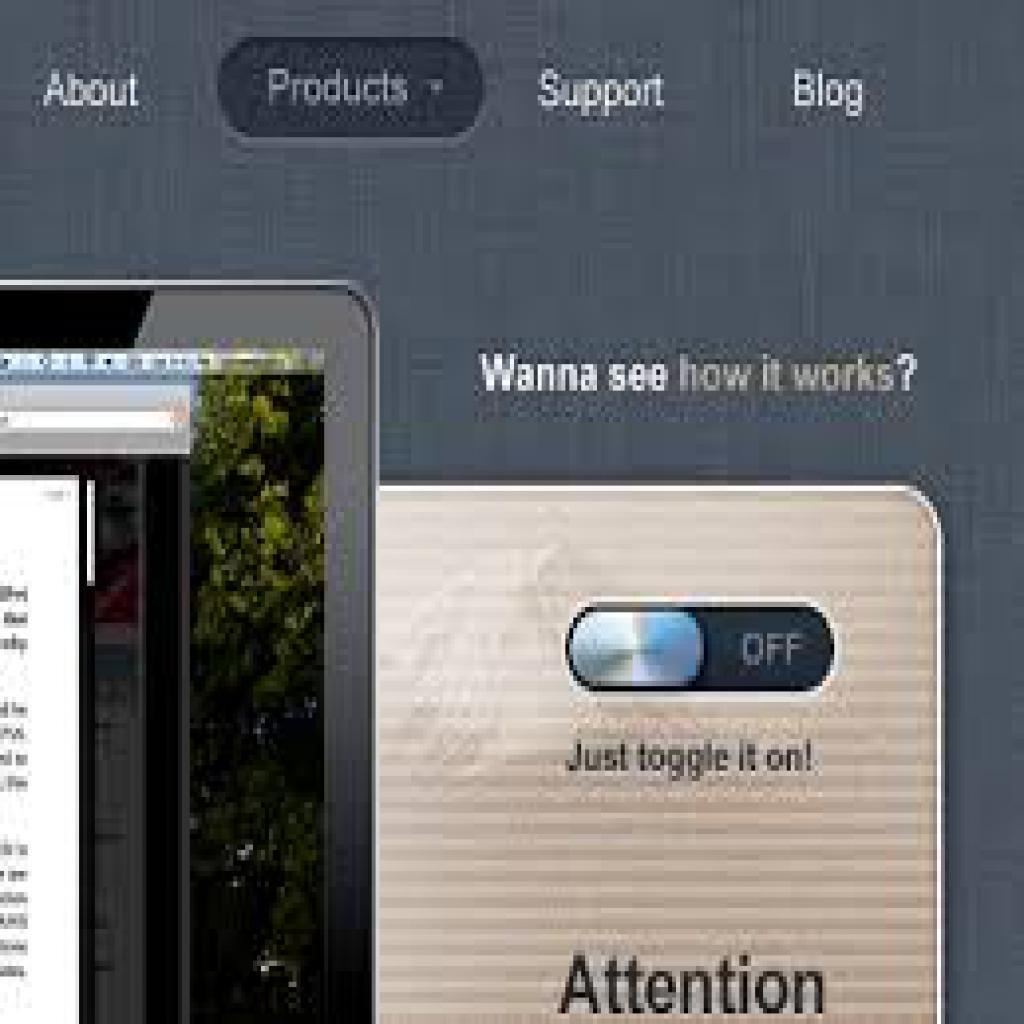dropdown: (219, 37, 488, 145)
switch: (569, 601, 835, 692)
